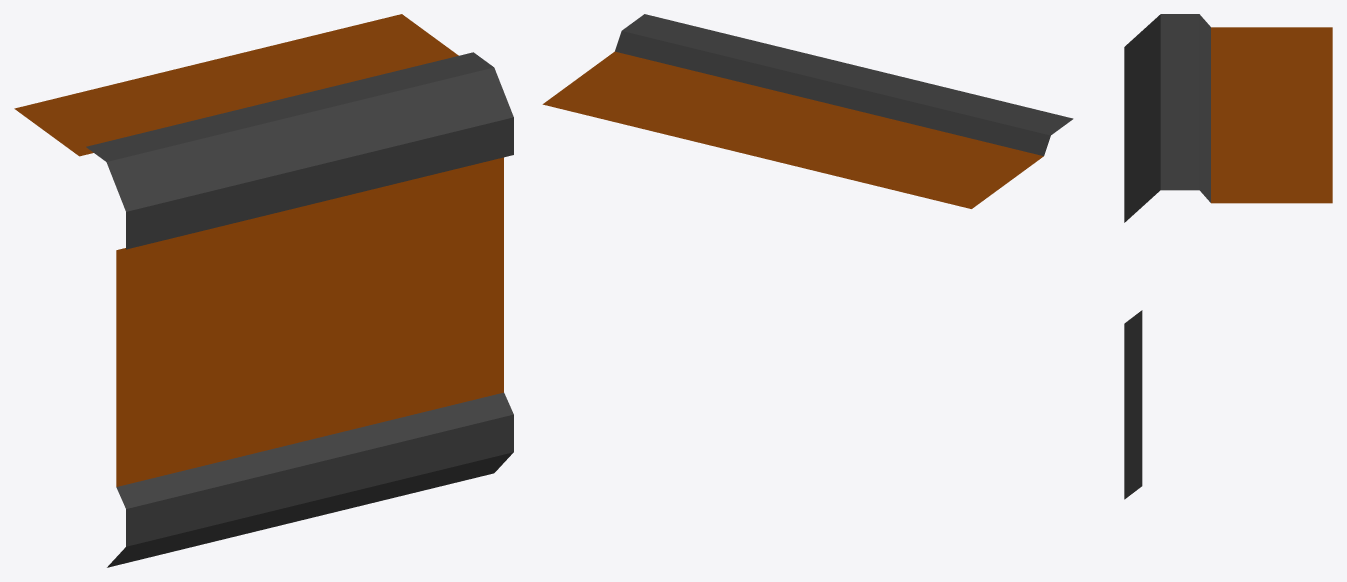
File: box-center.gltf
3 renders of one model, left to right at view 1: azimuth 30°, elevation 25°; view 2: azimuth 150°, elevation 25°; view 3: azimuth 270°, elevation 25°, orthographic. The views are drawn at different scales.
Parts seen in each view (by area): view 1: CenterFacesMesh, CenterFrameMesh; view 2: CenterFacesMesh, CenterFrameMesh; view 3: CenterFacesMesh, CenterFrameMesh.
Part boxes in pixels (x1=…): CenterFacesMesh: x1=14, y1=14, x2=503, y2=486; CenterFrameMesh: x1=86, y1=52, x2=513, y2=567; CenterFacesMesh: x1=542, y1=51, x2=1043, y2=208; CenterFrameMesh: x1=615, y1=14, x2=1073, y2=156; CenterFacesMesh: x1=1211, y1=27, x2=1332, y2=203; CenterFrameMesh: x1=1124, y1=14, x2=1210, y2=499.
Bounding box in the file's own units: 1 × 1 × 0.5.
